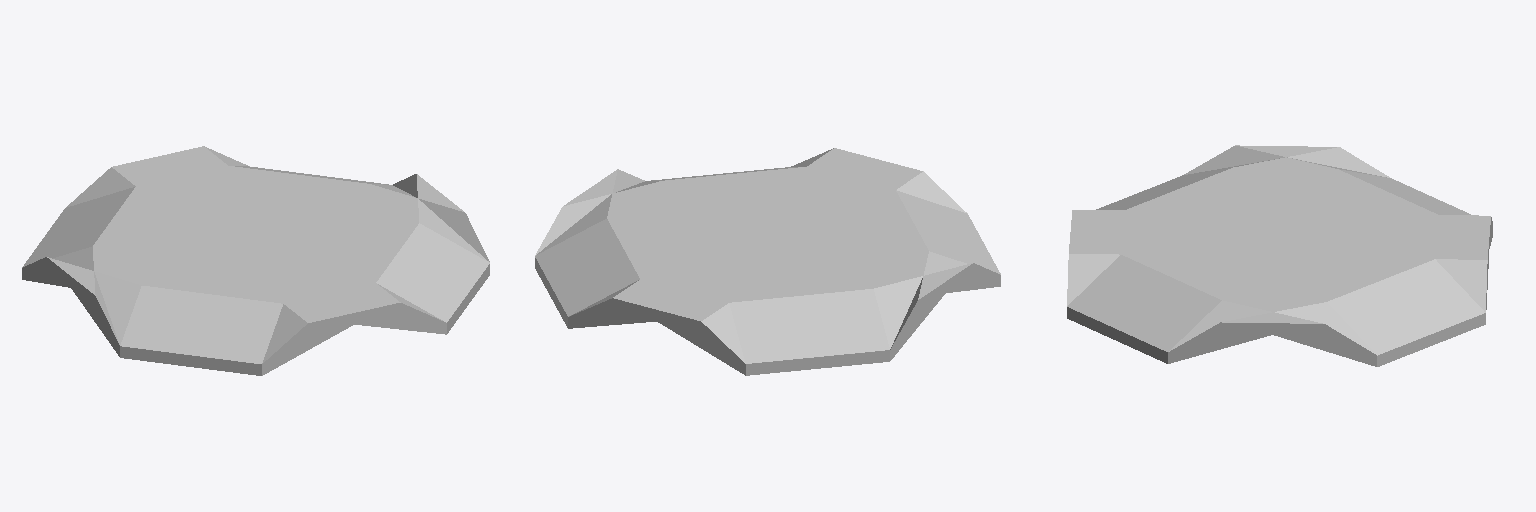
The model's file is landingpad4.obj.
3 renders of one model, left to right at view 1: azimuth 30°, elevation 25°; view 2: azimuth 150°, elevation 25°; view 3: azimuth 270°, elevation 25°, orthographic.
Visible parts, largest first — view 1: LandingPad4_Cube.023; view 2: LandingPad4_Cube.023; view 3: LandingPad4_Cube.023.
Part boxes in pixels (left/top/right/bottom): LandingPad4_Cube.023: left=22, top=146, right=489, bottom=375; LandingPad4_Cube.023: left=535, top=148, right=1000, bottom=375; LandingPad4_Cube.023: left=1067, top=145, right=1492, bottom=366.
Size of the model in its own units: 0.0242 by 0.0027 by 0.0242.